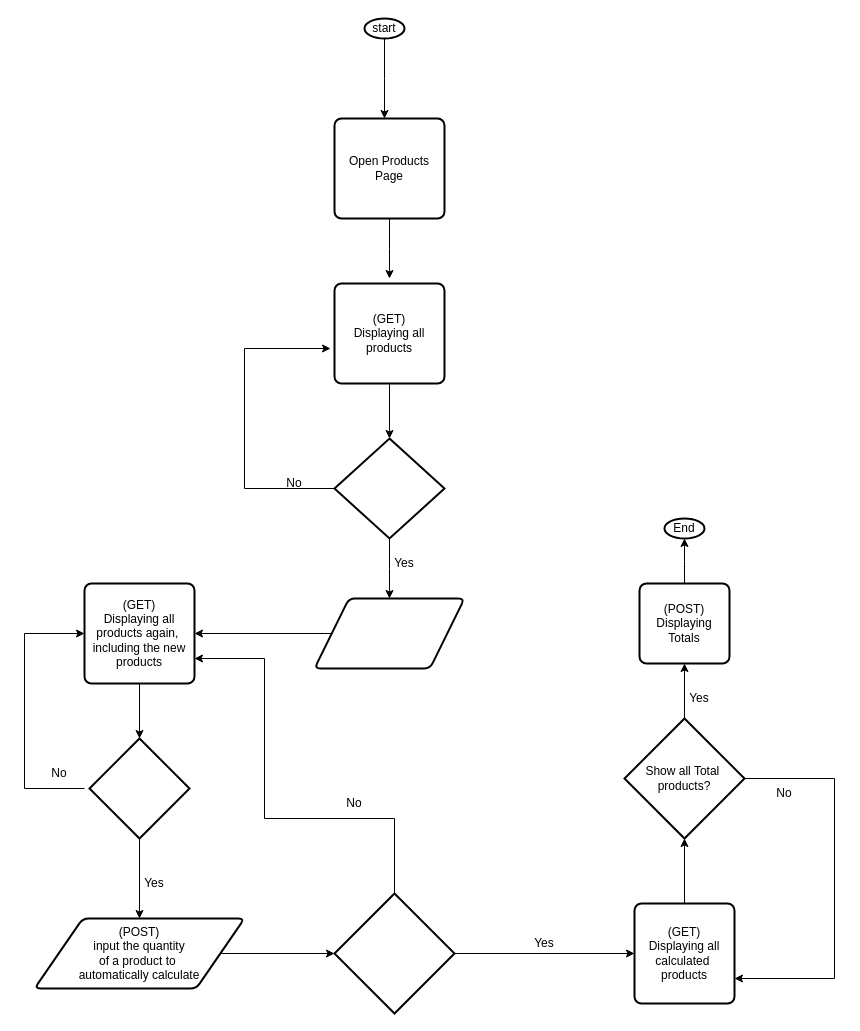
Image size: 860x1031. Some labels were removed from this diagram. Here are the shapes that lost their labels. From the top down, the centre of each, then its label:
[389,488]: add products?
[389,633]: (POST) input the name of products and its price
[139,788]: Calculate Products?
[394,953]: show modal of calculated products?
